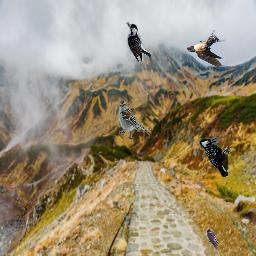Sparrow: (119, 99, 150, 139)
Swallow: (186, 30, 226, 67), (206, 228, 219, 249)
Woodpecker: (198, 137, 232, 177), (126, 22, 151, 62)
